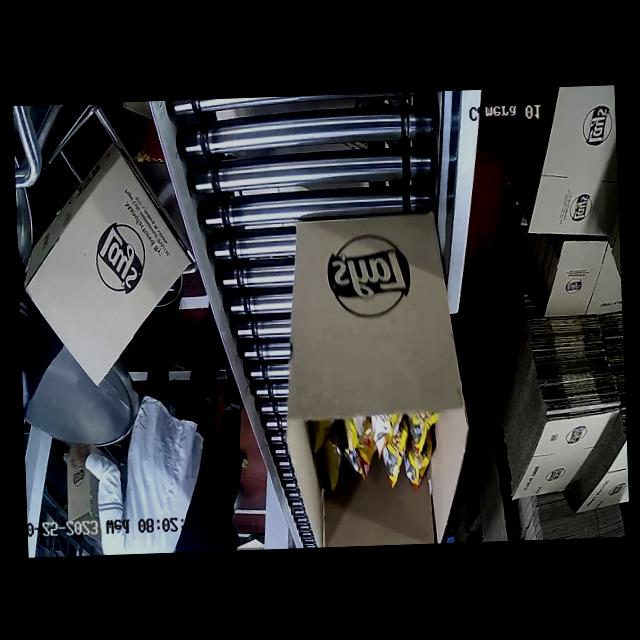salted: (315, 413, 440, 495)
